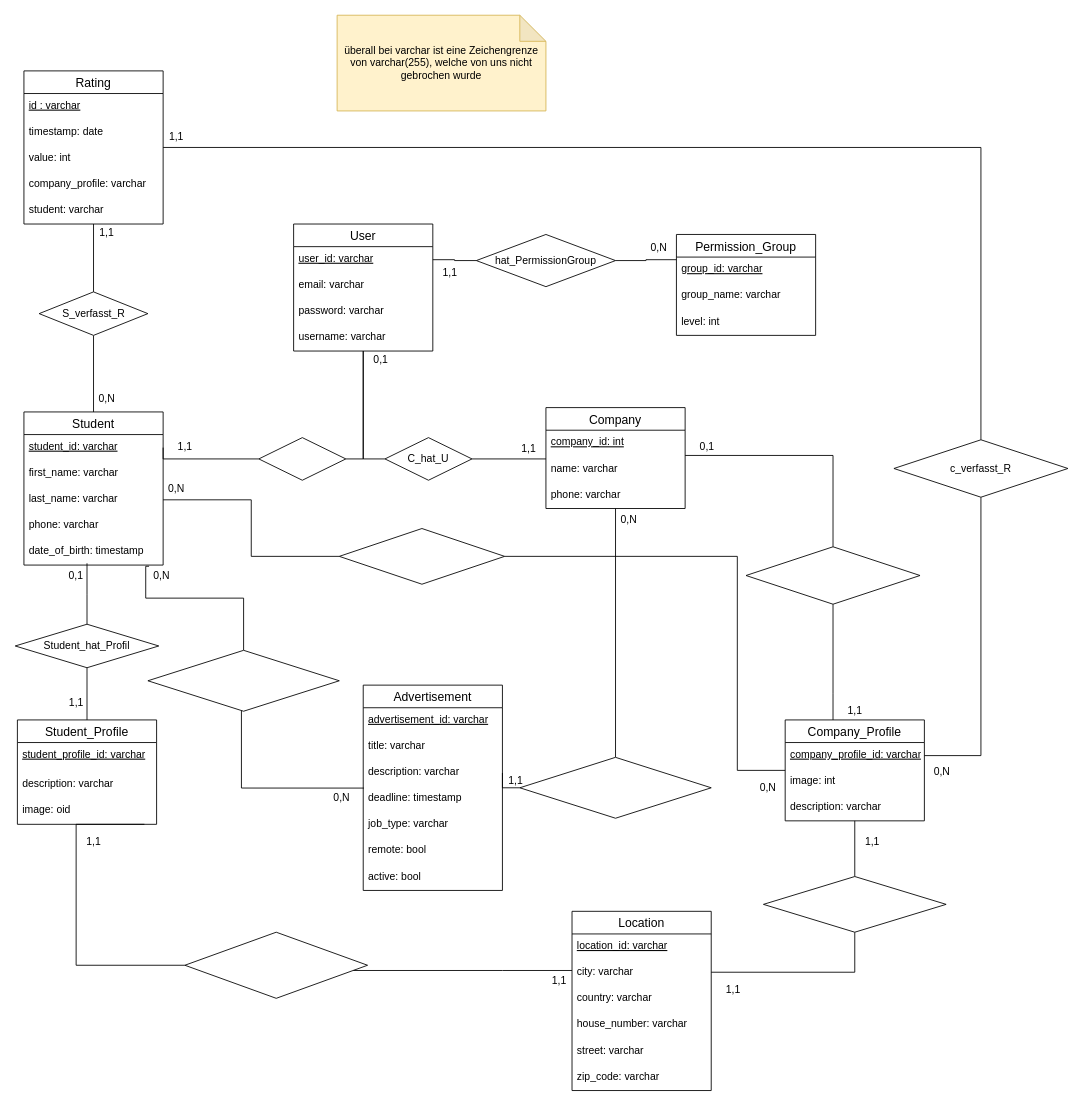
This 1083x1108 diagram has some shape labels left out. The centre of each missing label's shape, as x and y in pixels:
"Company_erstellt_Ad" goes at (615,787).
"Company_hat_Profil" goes at (832,575).
"Company_Profil_hat_Location" goes at (854,904).
"S_hat_U" goes at (302,458).
"Student_bewertet_Company" goes at (421,556).
"Student_bewirbt_sich_auf_Ad" goes at (243,680).
"Student_Profil_hat_Location" goes at (276,964).
